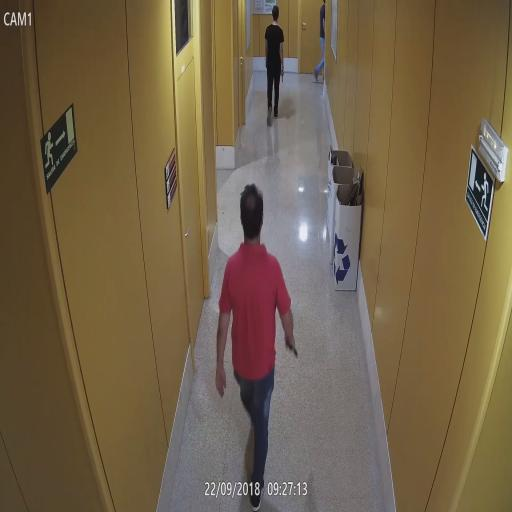Handgun: (284, 335, 298, 362), (278, 66, 286, 82)
